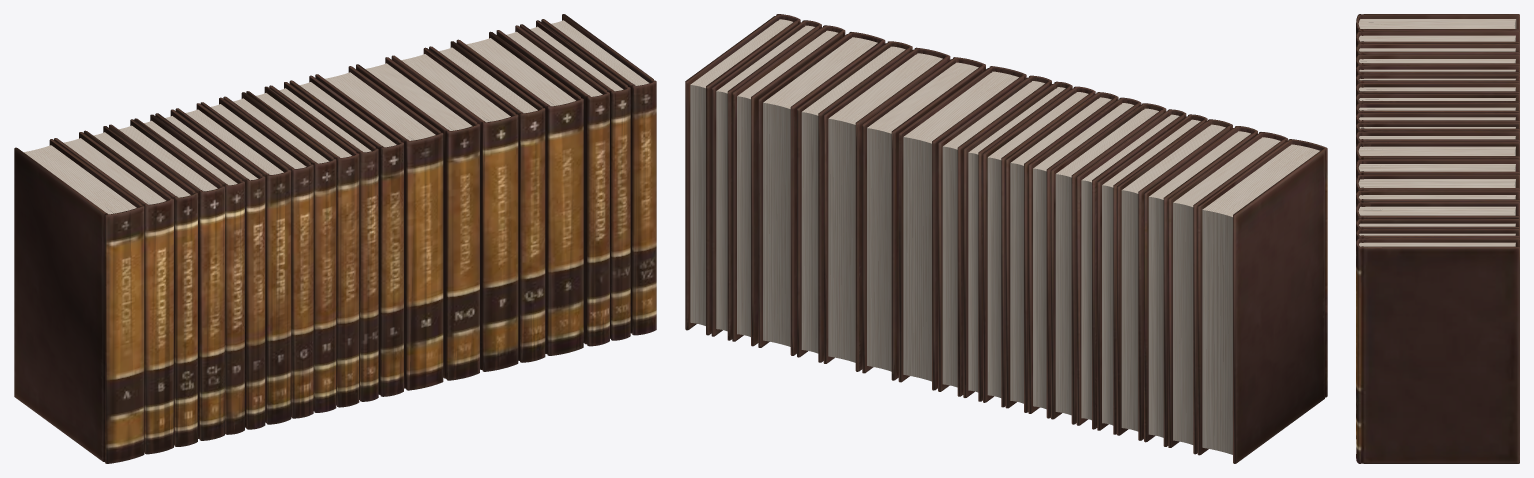
The model's file is book_encyclopedia_set_01.glb.
3 renders of one model, left to right at view 1: azimuth 30°, elevation 25°; view 2: azimuth 150°, elevation 25°; view 3: azimuth 270°, elevation 25°, orthographic. The views are drawn at different scales.
Parts seen in each view (by area): view 1: book_encyclopedia_set_01_book01; view 2: book_encyclopedia_set_01_book01; view 3: book_encyclopedia_set_01_book01.
Part boxes in pixels (x1=…): book_encyclopedia_set_01_book01: x1=14, y1=14, x2=656, y2=463; book_encyclopedia_set_01_book01: x1=685, y1=14, x2=1327, y2=463; book_encyclopedia_set_01_book01: x1=1356, y1=14, x2=1519, y2=463.
Bounding box in the file's own units: 0.5513 × 0.2374 × 0.1631.
Materials: 2 (2 with a texture image).
